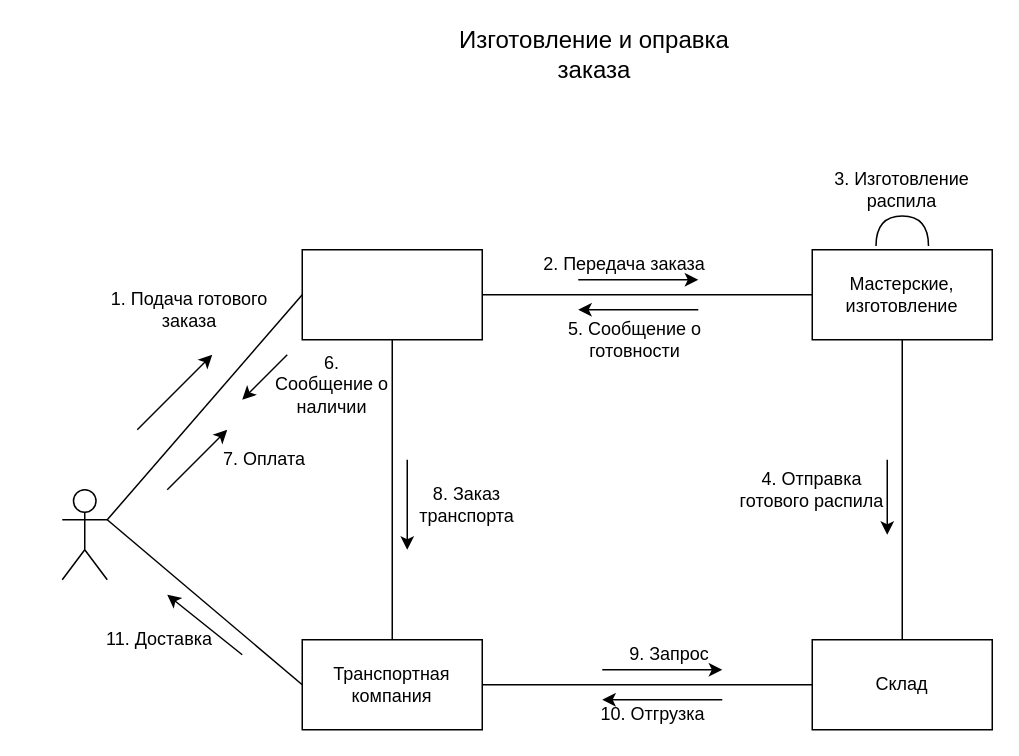
The diagram is 1019 pixels wide and 756 high, and some of its shapes have lost their labels. Here are the shapes that lost their labels. From the top down, the centre of each, then its label:
the point at 391,294: Админ
the point at 84,534: Пользователь
